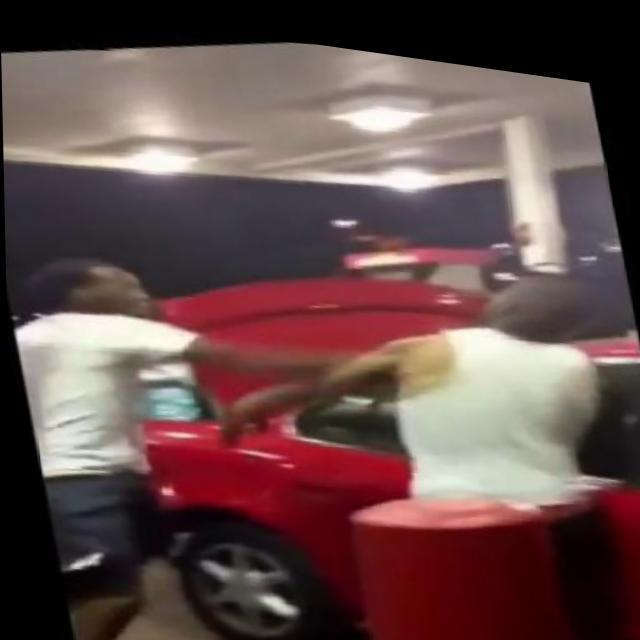fight: (3, 150, 640, 585)
